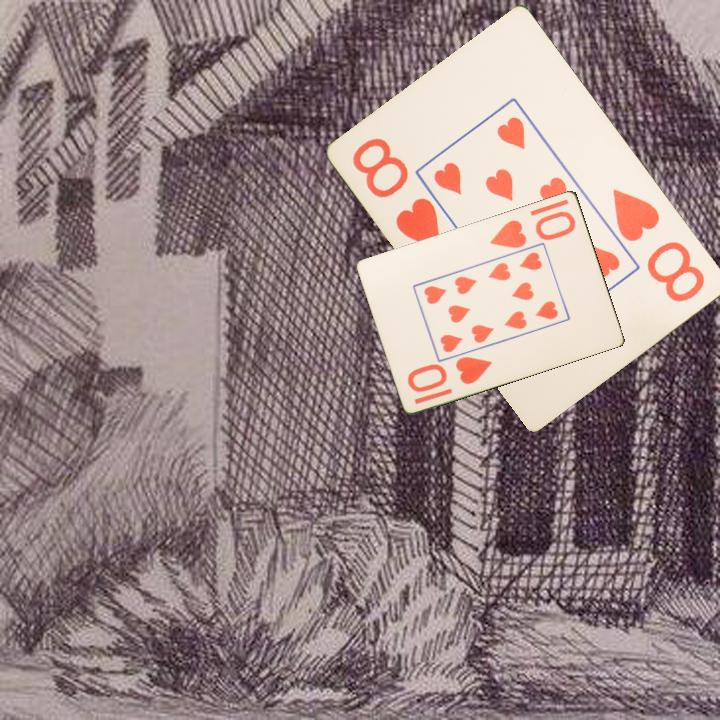10h: (486, 207, 579, 251), (404, 353, 496, 395)
8h: (609, 184, 709, 306), (349, 134, 445, 254)
